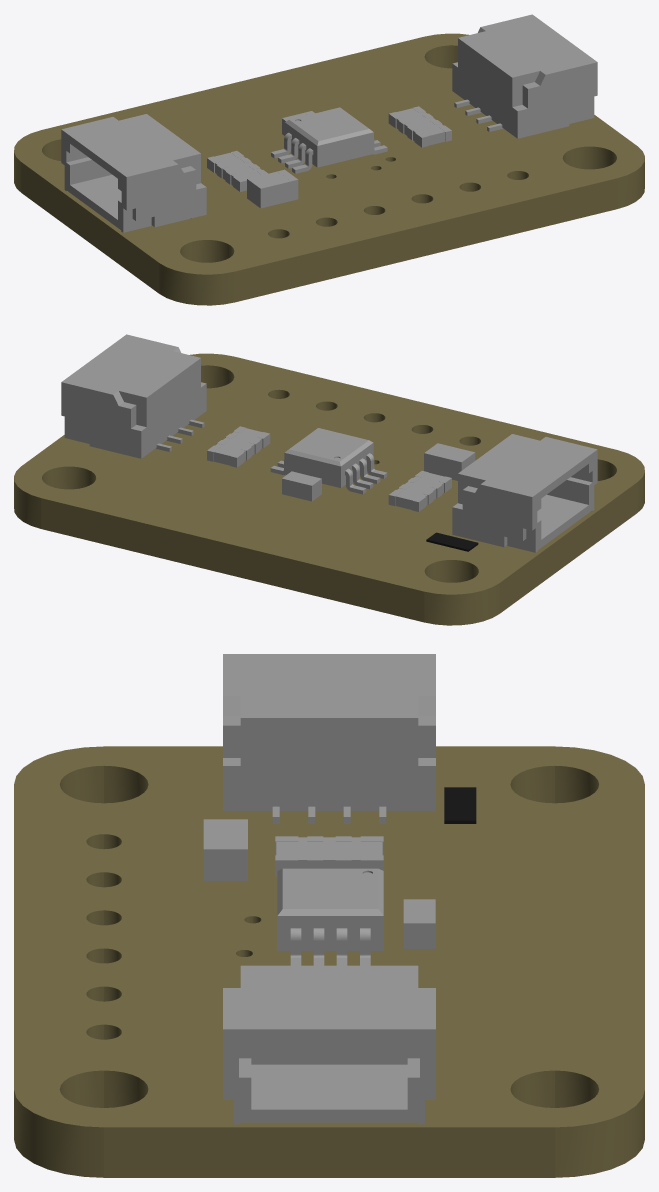
The model's file is ada-5027.glb.
The picture shows the model from 3 angles, top to bottom: view 1: azimuth 30°, elevation 25°; view 2: azimuth 150°, elevation 25°; view 3: azimuth 270°, elevation 25°; orthographic projection. The views are drawn at different scales.
Parts seen in each view (by area): view 1: 0.16666666666666666_0.16666666666666666_0.08333333333333333_, 0.3333333333333333_0.3333333333333333_0.3333333333333333_0; view 2: 0.16666666666666666_0.16666666666666666_0.08333333333333333_, 0.3333333333333333_0.3333333333333333_0.3333333333333333_0, 0_0_0_0; view 3: 0.16666666666666666_0.16666666666666666_0.08333333333333333_, 0.3333333333333333_0.3333333333333333_0.3333333333333333_0, 0_0_0_0.
Boxes of the visible parts, x1,y1,x2,y2 form: 0.16666666666666666_0.16666666666666666_0.08333333333333333_: (14, 33, 644, 305); 0.3333333333333333_0.3333333333333333_0.3333333333333333_0: (61, 14, 597, 232); 0.16666666666666666_0.16666666666666666_0.08333333333333333_: (14, 353, 644, 625); 0.3333333333333333_0.3333333333333333_0.3333333333333333_0: (61, 334, 597, 552); 0_0_0_0: (426, 532, 478, 551); 0.16666666666666666_0.16666666666666666_0.08333333333333333_: (14, 746, 644, 1177); 0.3333333333333333_0.3333333333333333_0.3333333333333333_0: (203, 654, 435, 1124); 0_0_0_0: (444, 787, 476, 823).
Bounding box in the file's own units: 2.54 × 0.4529 × 1.78.
